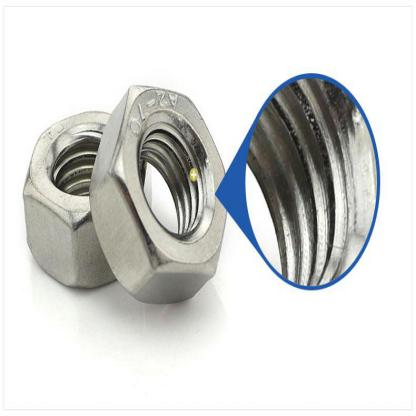FOD: (91, 83, 230, 300), (20, 106, 152, 292)
